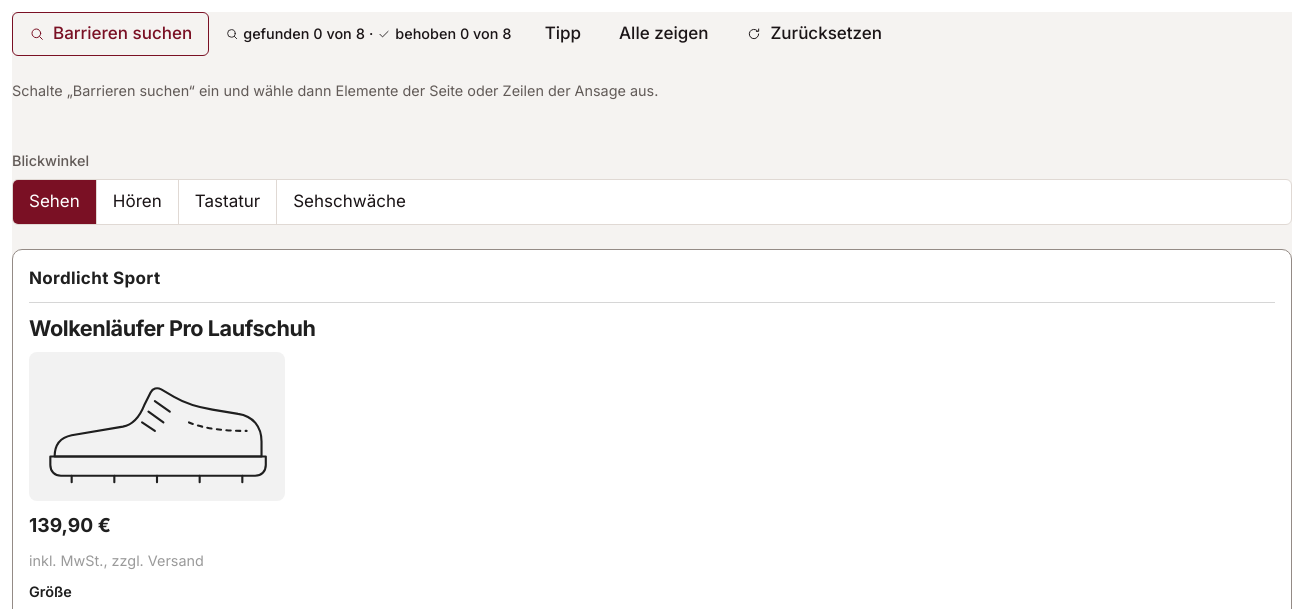
Scenario: Suchspiel im Browser-Modell › Live-Regionen: Tipp und Status stehen immer im Baum, der Fokusbereich ist keine Live-Region
Click the button "Tipp" at (563, 34), box [528,12,598,56]
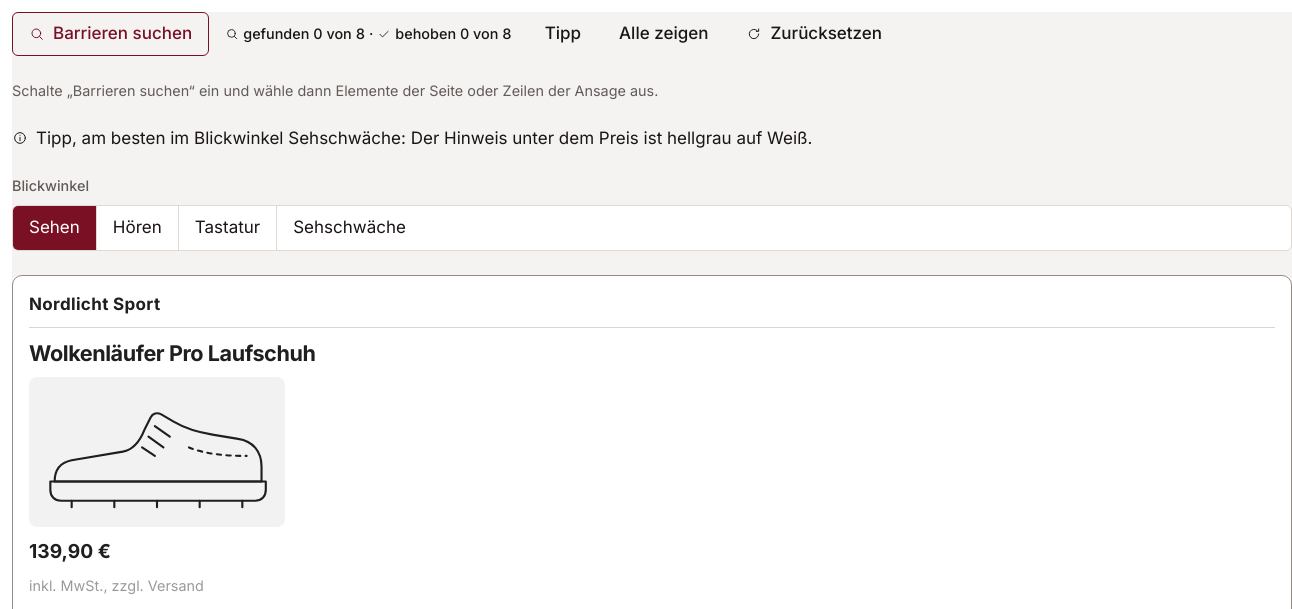
expect the element with class "a11y-tip" shows "Tipp, am besten im Blickwinkel": met, box [36,128,288,148]
